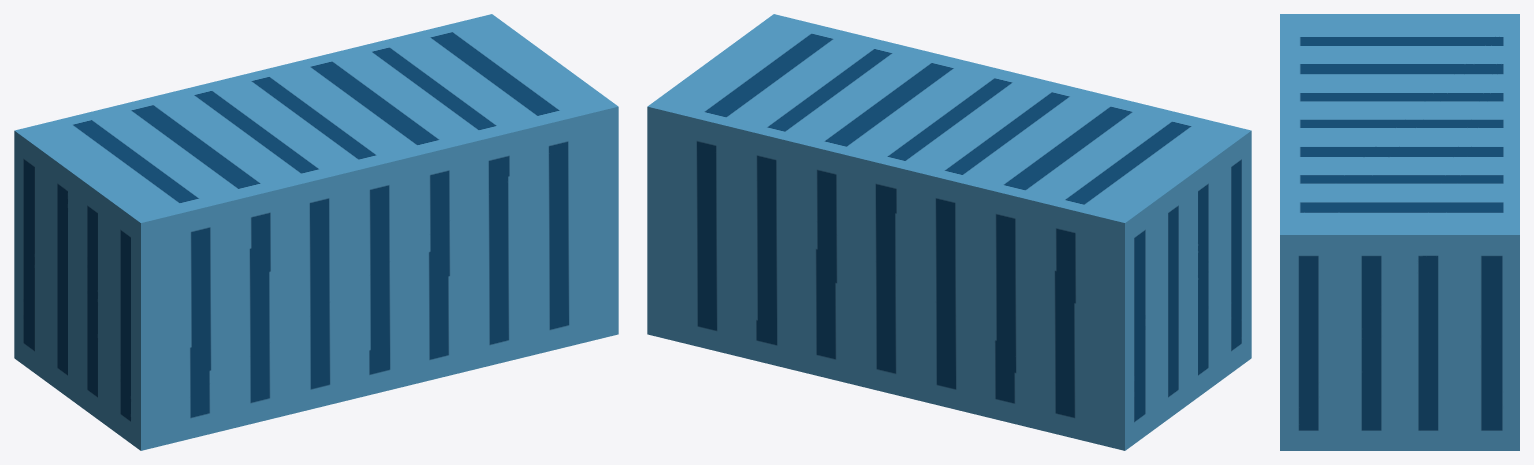
File: ContB.fbx
3 views of the same model, side by side, from view 1: azimuth 30°, elevation 25°; view 2: azimuth 150°, elevation 25°; view 3: azimuth 270°, elevation 25° (orthographic). The views are drawn at different scales.
Parts seen in each view (by area): view 1: ContB; view 2: ContB; view 3: ContB.
Boxes of the visible parts, x1,y1,x2,y2 form: ContB: (14,14,618,450); ContB: (647,14,1251,450); ContB: (1280,14,1519,450).
Bounding box in the file's own units: 48.25 × 21.99 × 22.13.
